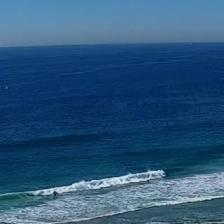surfer: (54, 192, 57, 196), (45, 179, 49, 182), (25, 176, 28, 179), (116, 165, 119, 168), (41, 195, 44, 197), (147, 180, 150, 182)
